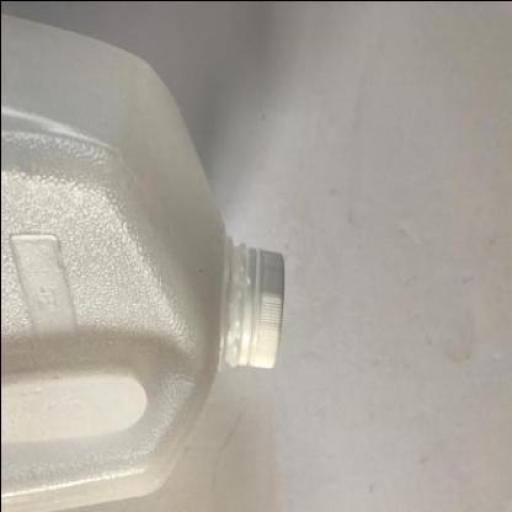plastic: (1, 15, 285, 511), (230, 244, 284, 370)
